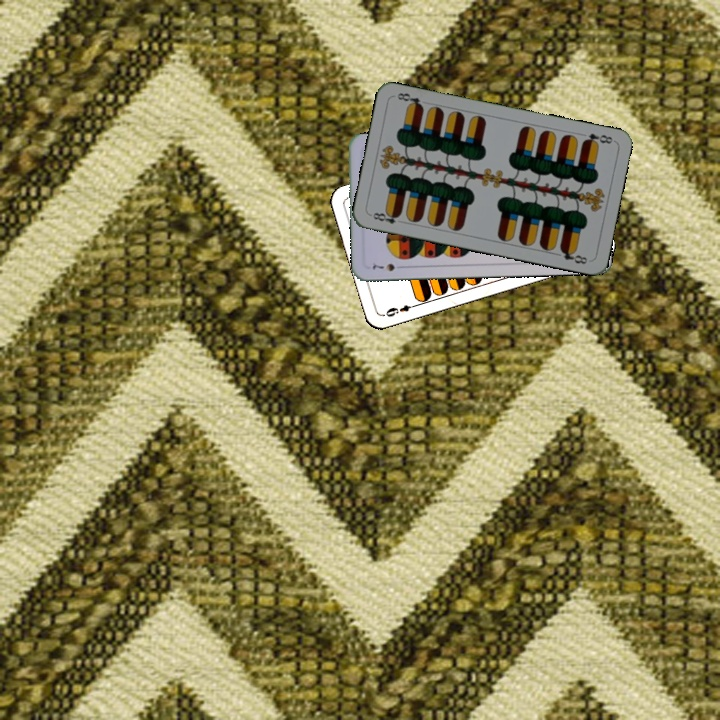E8: (578, 129, 615, 148), (367, 208, 403, 227)
E9: (382, 300, 420, 320)
S7: (367, 259, 407, 274)
